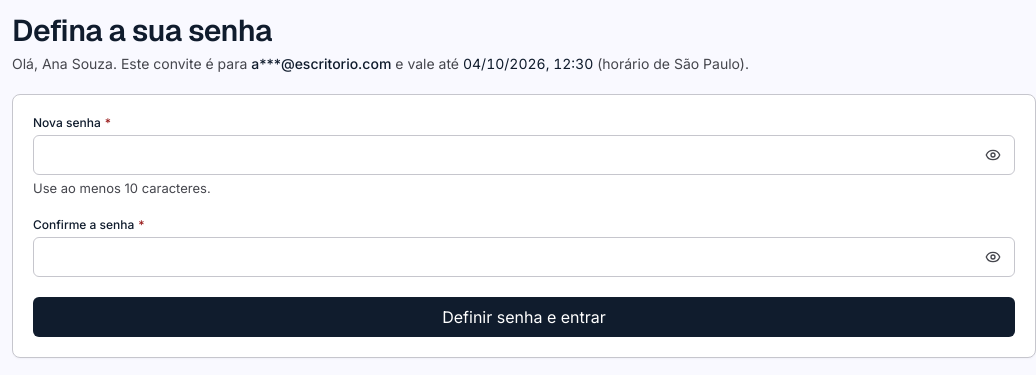
Scenario: definição da senha › convite que deixou de valer entre a consulta e o envio troca a tela pela orientação
Type "senha-bem-longa-123" into the password field labelled "Nova senha*" at {"x": 524, "y": 155}, box [33,135,1015,175]
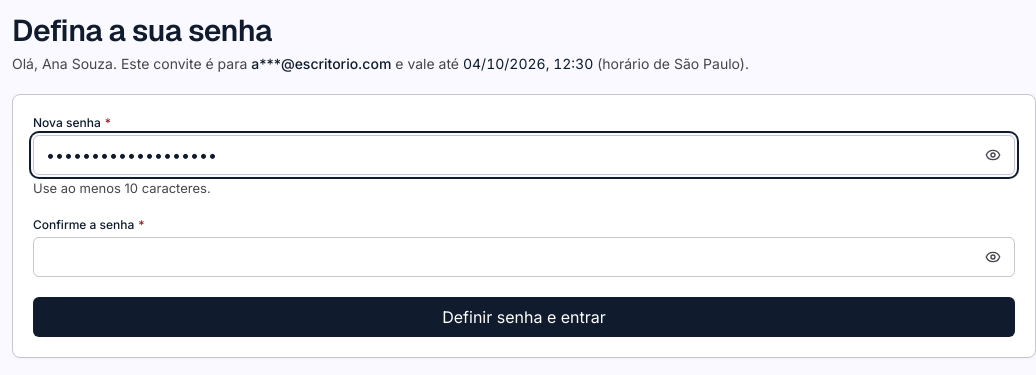
Type "senha-bem-longa-123" into the password field labelled "Confirme a senha*" at {"x": 524, "y": 257}, box [33,237,1015,277]
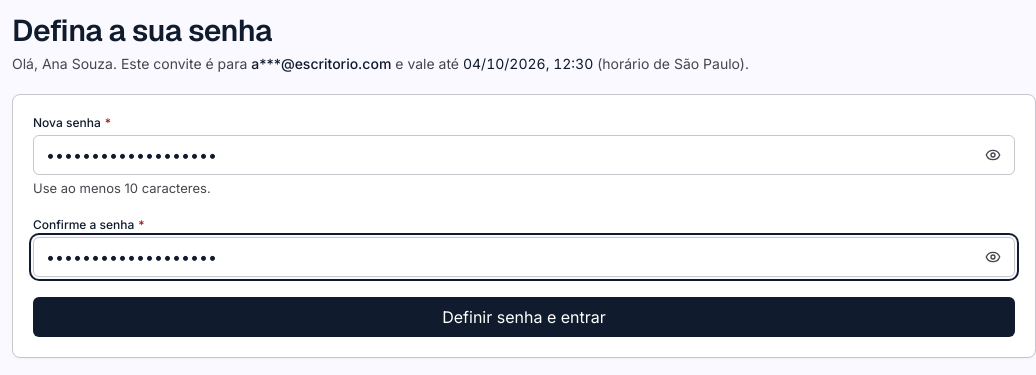
Click the button "Definir senha e entrar" at {"x": 524, "y": 317}, box [33,297,1015,337]
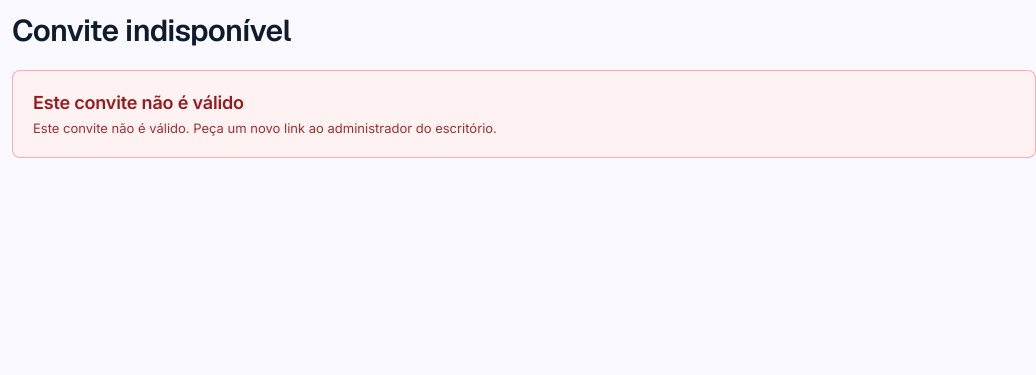
Result: the message shows "Este convite não é válido" at [33,92,244,113]
Result: the label labelled "Nova senha" is gone
